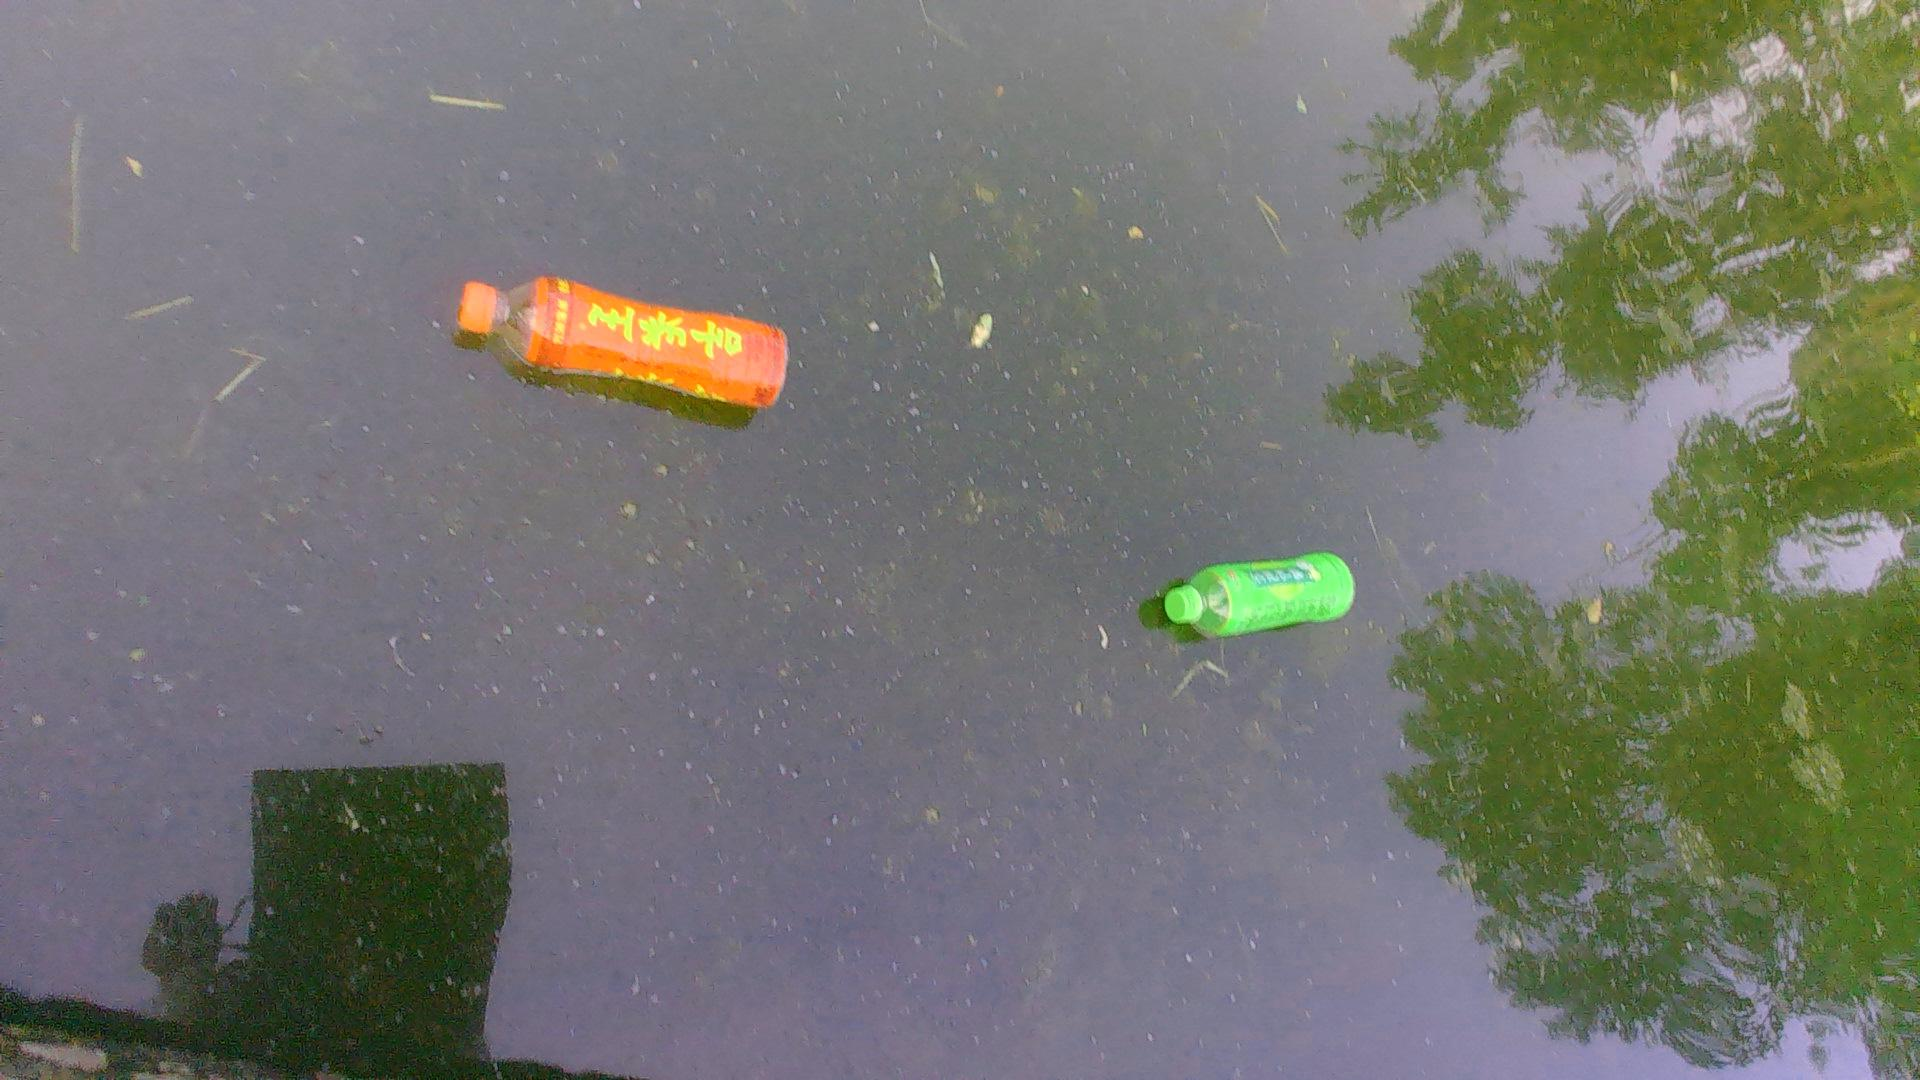Plastic: (451, 272, 800, 407), (1153, 545, 1364, 640)
